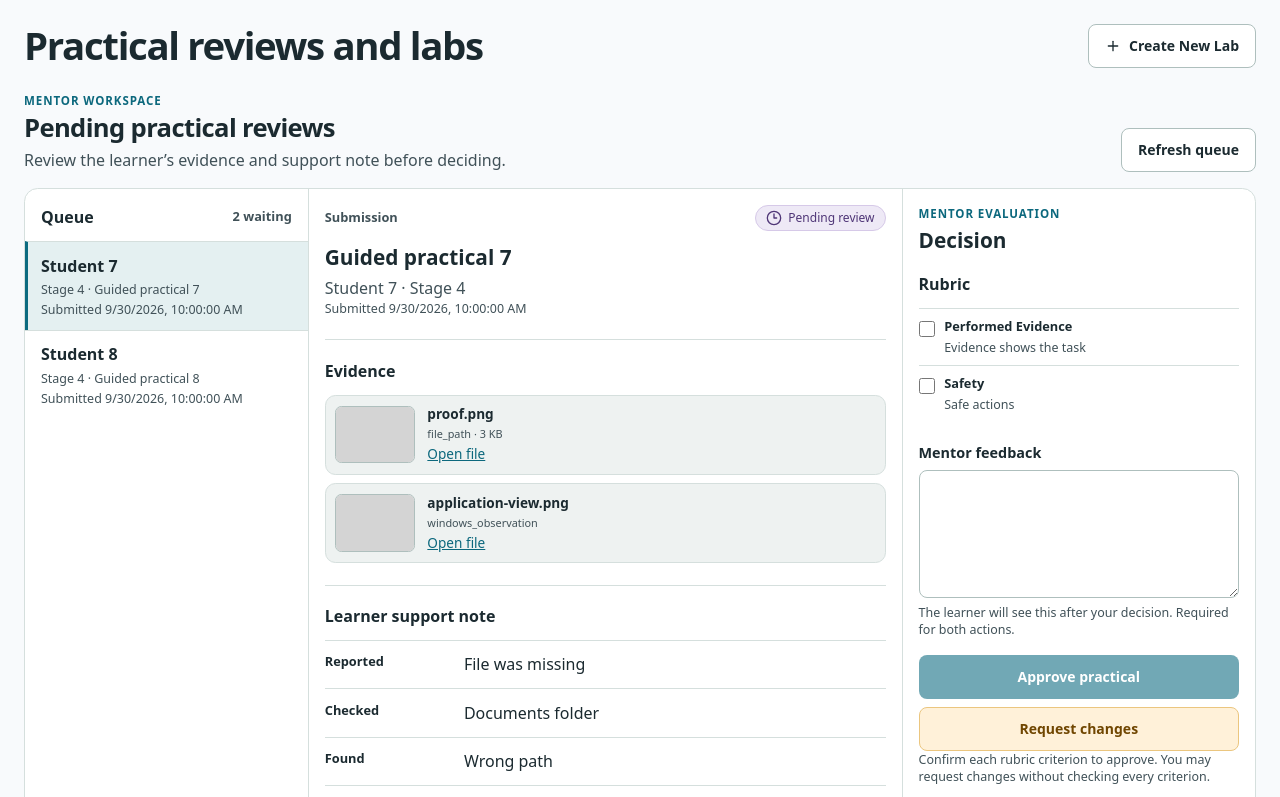
Test: mentor practical review workspace › clears confirmation when refresh replaces the selected submission
The width and height of the screenshot is (1280, 797).
expect the heading "Guided practical 7" is shown: met, box [325, 243, 512, 271]
Step 1. Click the button "Student 8" → (166, 374), box [25, 330, 308, 419]
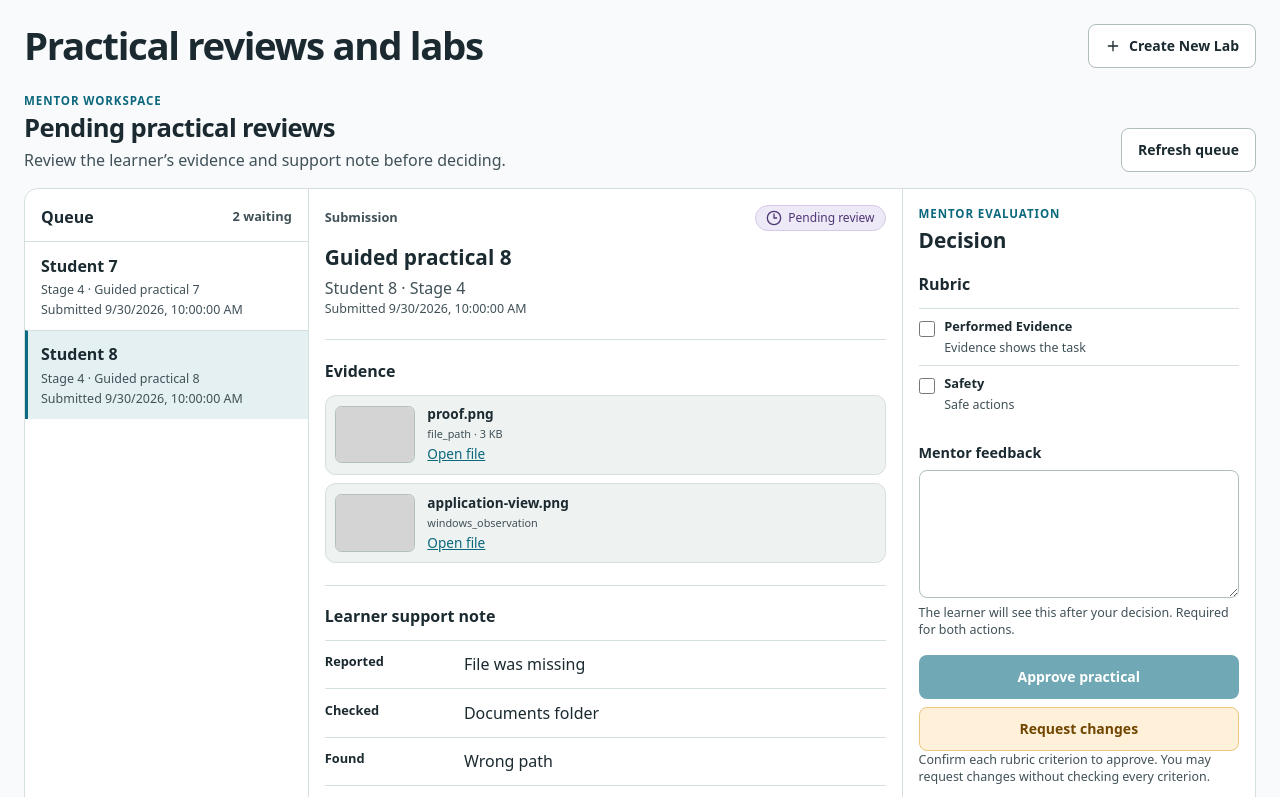
Step 2. Type "Feedback for eight" into the text box labelled "Mentor feedback" → (1079, 534), box [918, 470, 1239, 598]
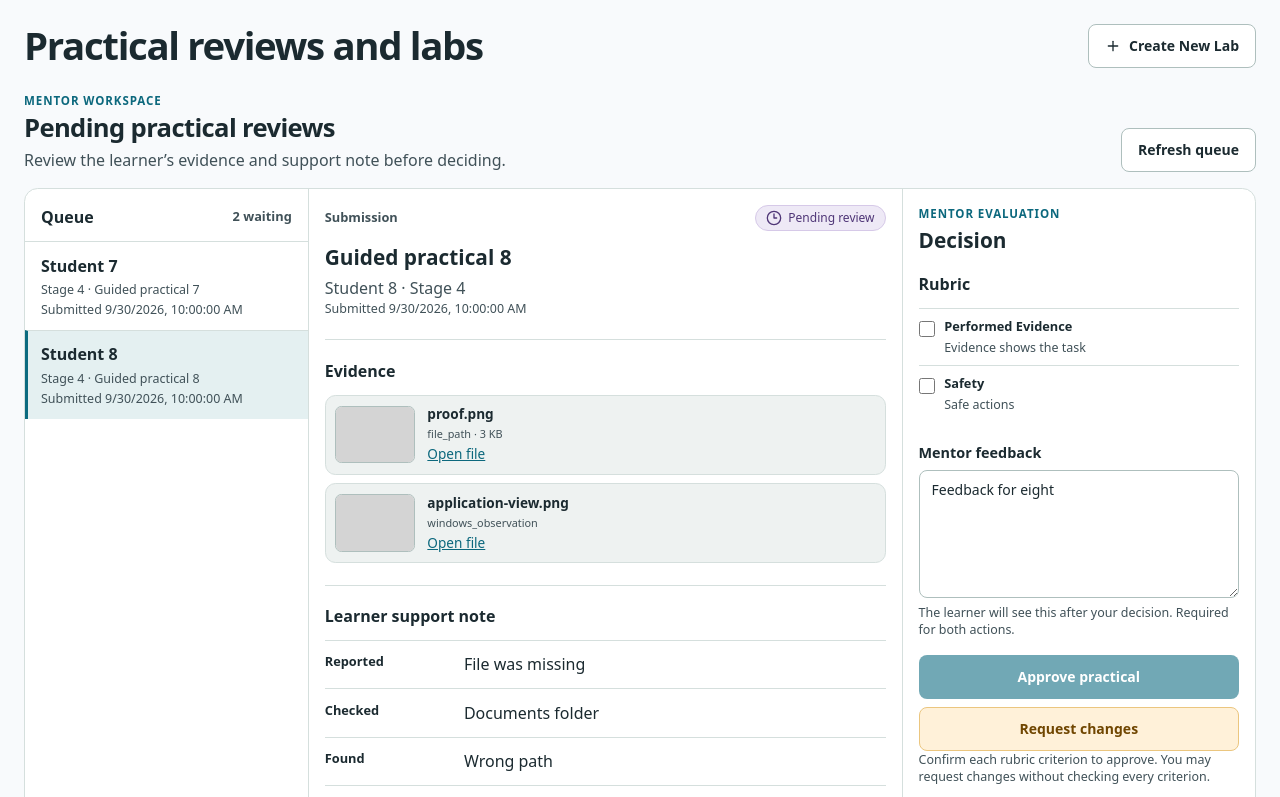
Step 3. Click the button "Student 7" → (166, 286), box [25, 242, 308, 330]
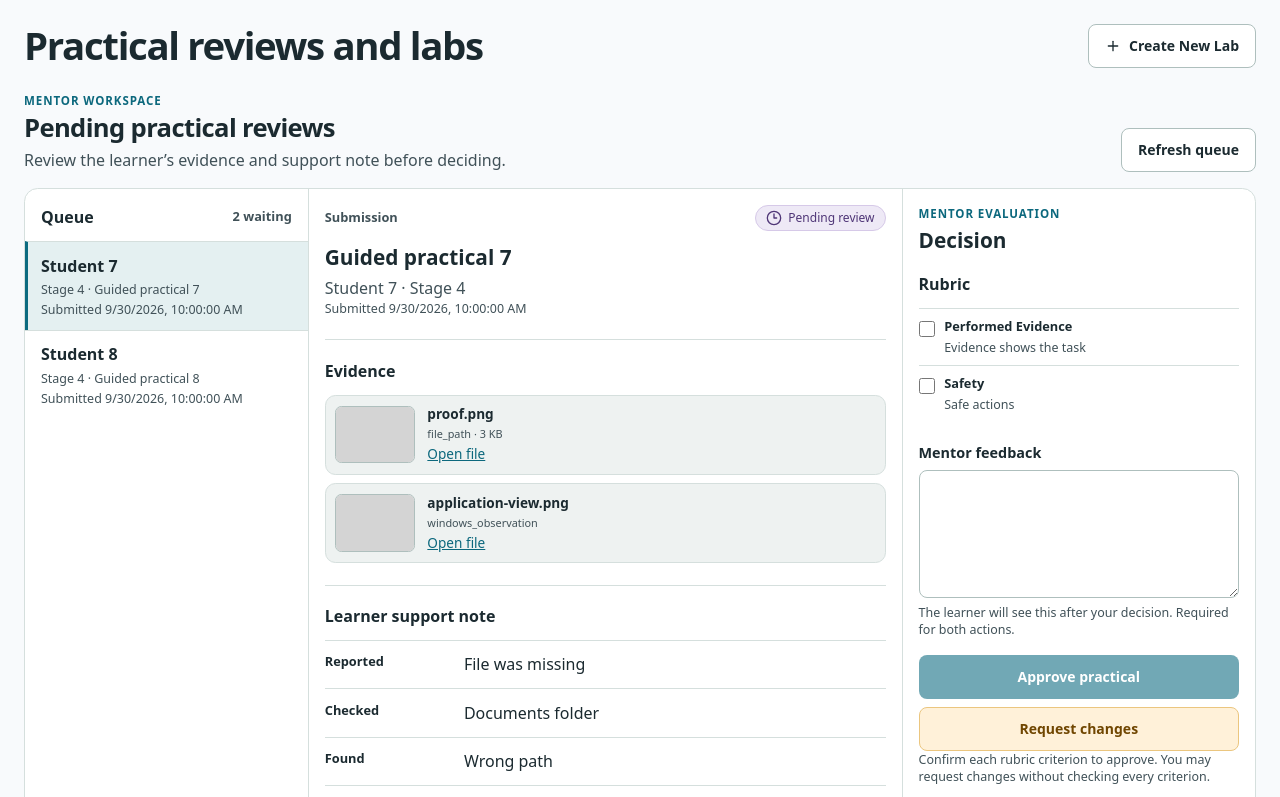
Step 4. Type "Feedback for seven" into the text box labelled "Mentor feedback" → (1079, 534), box [918, 470, 1239, 598]
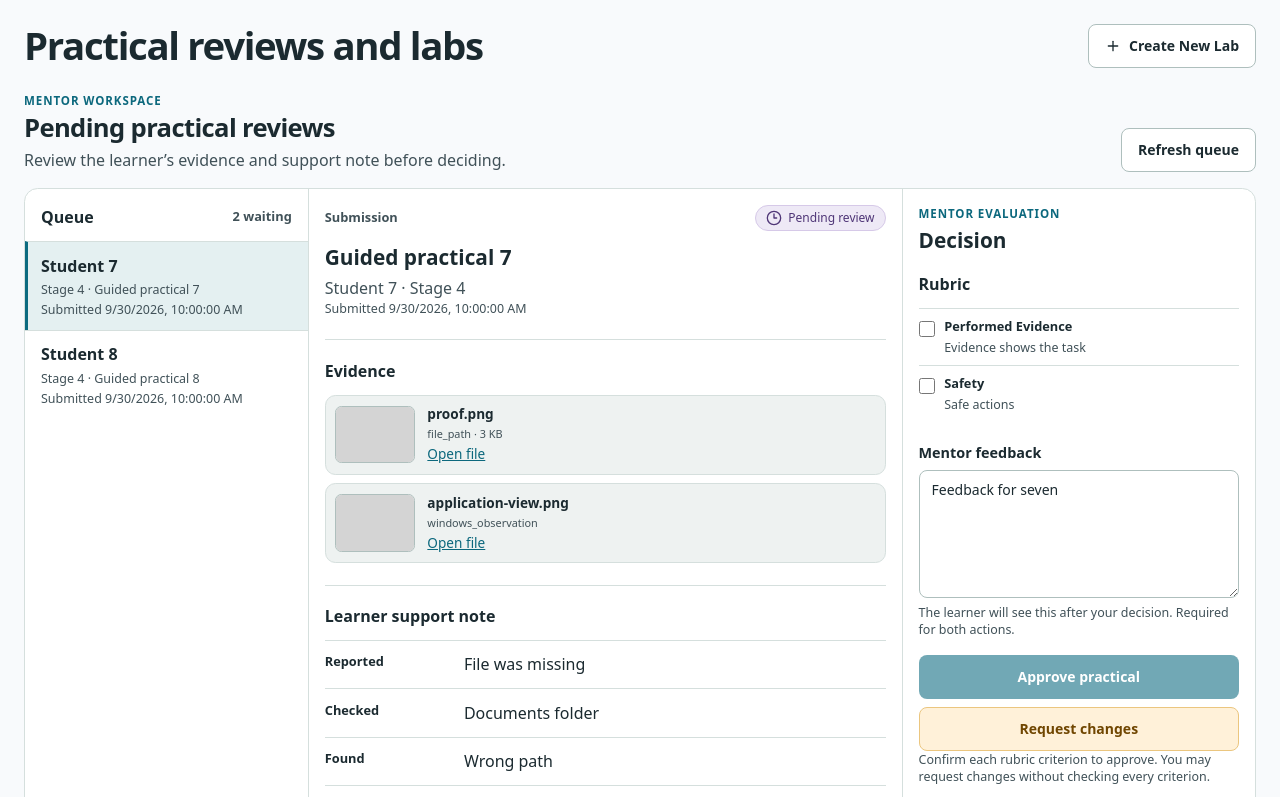
Step 5. Click the button "Request changes" → (1079, 729), box [918, 707, 1239, 751]
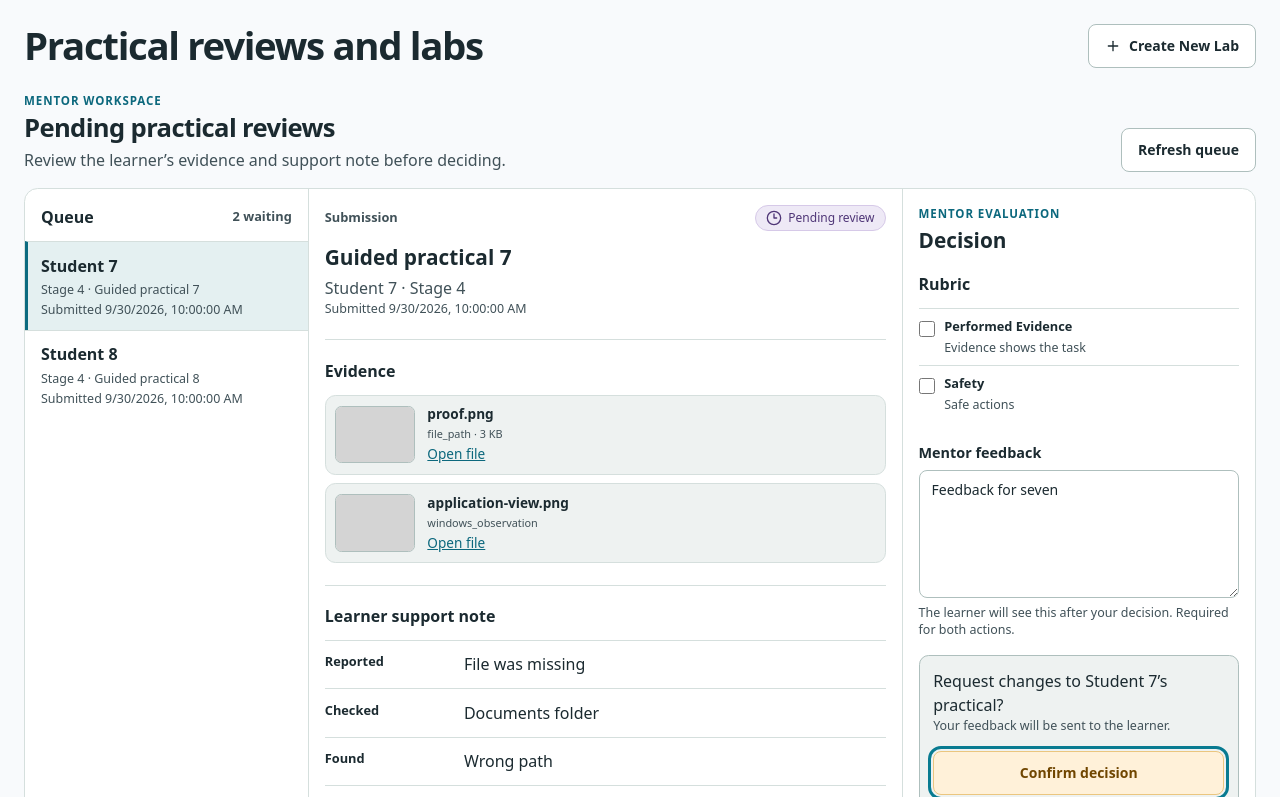
expect the button "Confirm decision" is shown: met, box [933, 751, 1224, 795]
Step 6. Click the button "Refresh queue" → (1189, 150), box [1121, 128, 1256, 172]
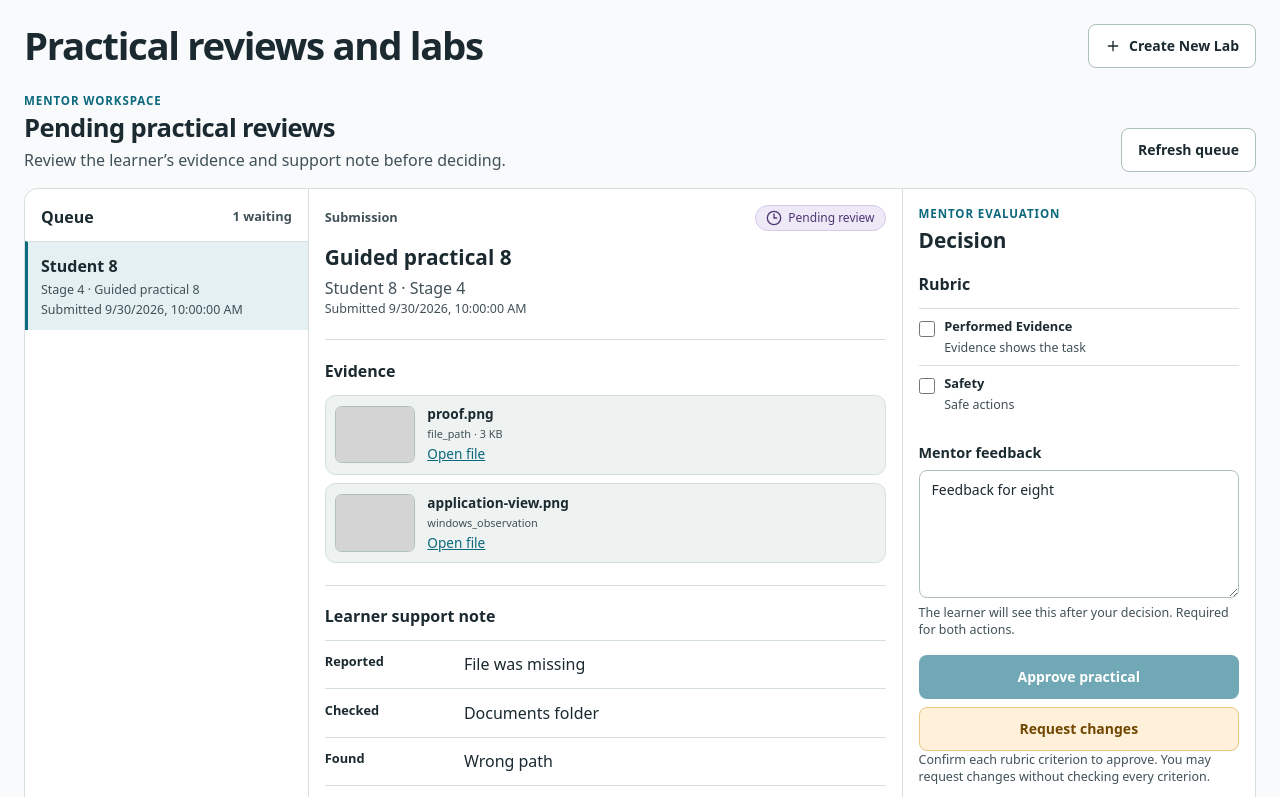
expect the heading "Guided practical 8" is shown: met, box [325, 243, 512, 271]
expect the button "Confirm decision" is gone: met
expect the text box labelled "Mentor feedback" holds "Feedback for eight": met, box [918, 470, 1239, 598]
